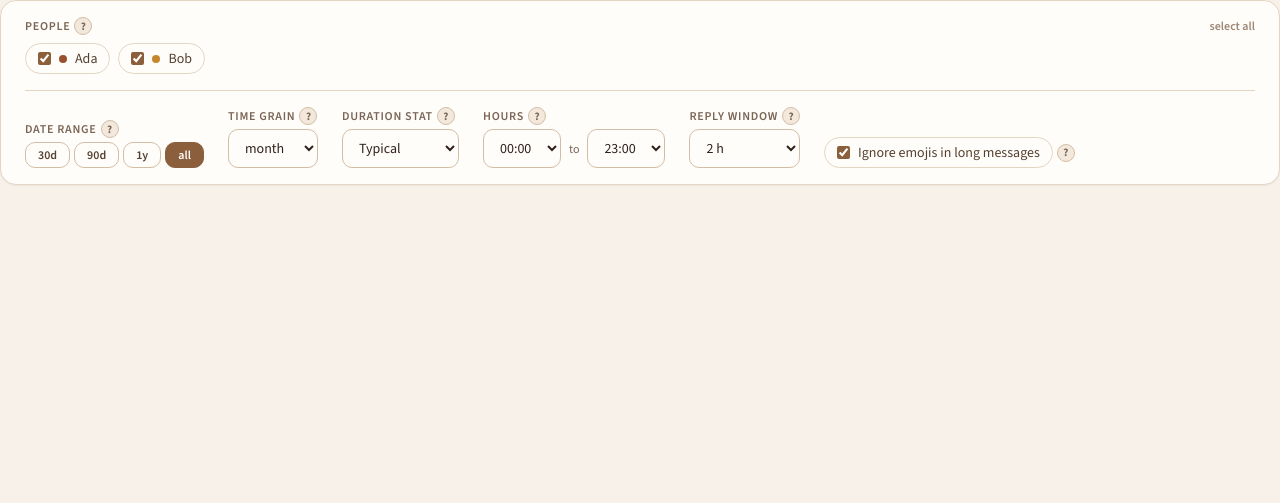
Test: FilterBar › explains the emoji-strip toggle in plain language
What coordinates should you click on to do the following:
click the button named "what is ignore emojis in long messages?"
I would click on:
 (1066, 152)
Its box is [1057, 144, 1075, 162].
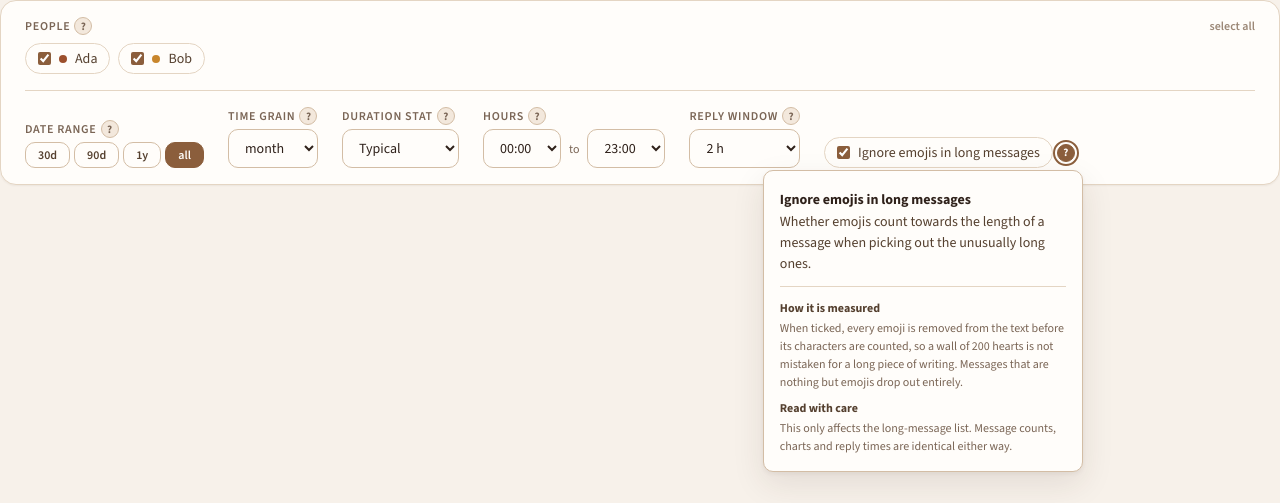
Expected: the element that starts with "Ignore emojis in long messages" shows "only affects the long-message list", [780, 420, 1056, 454]
